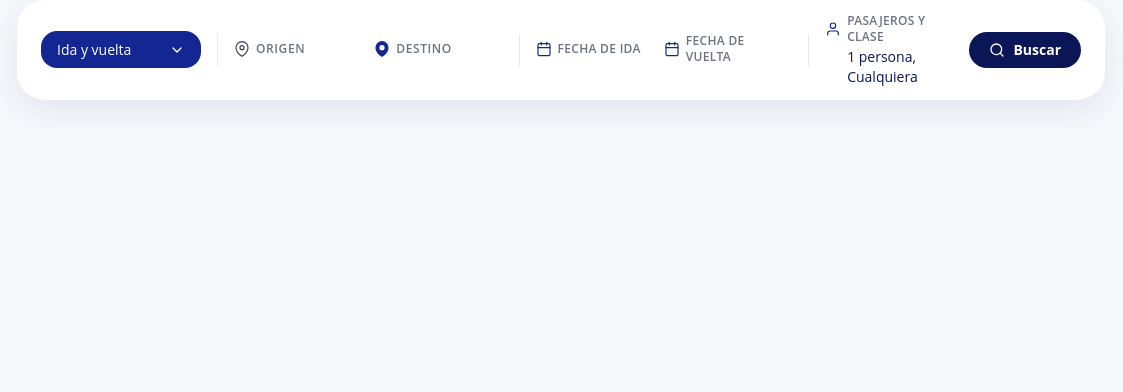
Test case: SearchBar — validación de búsqueda › al elegir un origen argentino, el destino solo ofrece paradas de Paraguay
# abrir el input de Origen y elegir la provincia argentina "Buenos Aires"
Click the text "Origen": [281, 49] box [256, 40, 305, 58]
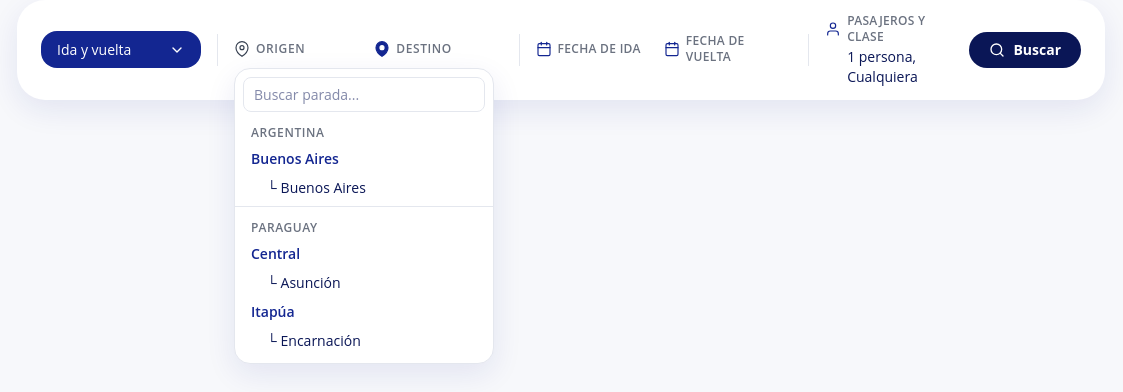
# el dropdown de origen muestra la provincia AR una vez que getStops resuelve
Click the text "Buenos Aires": [295, 158] box [251, 149, 339, 168]
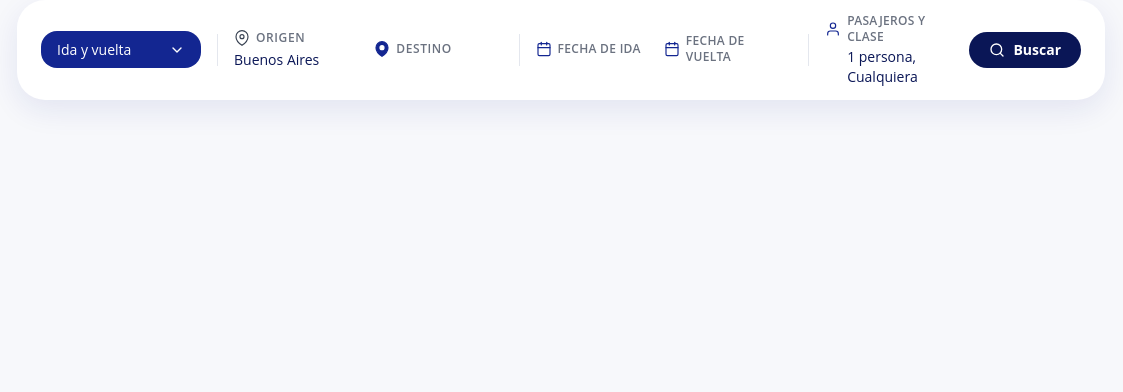
# abrir el input de Destino
Click the text "Destino": [424, 49] box [396, 40, 452, 58]
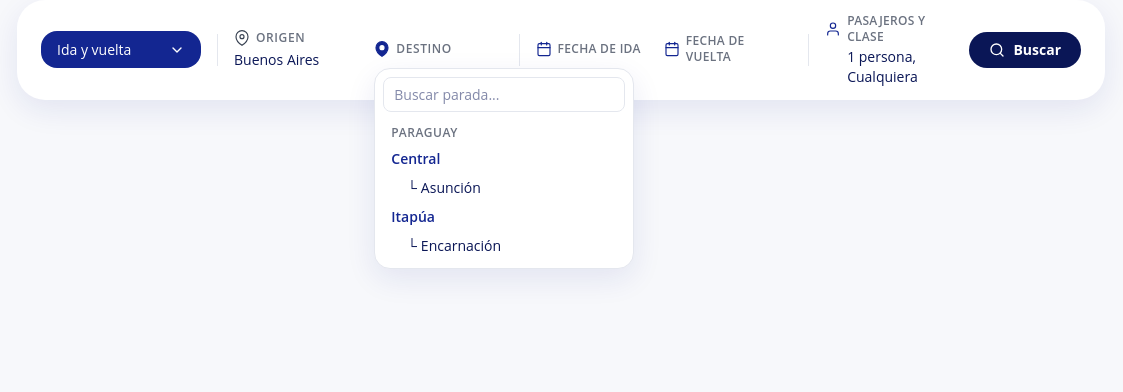
Check: the text "Argentina" is not shown
Check: the text "Paraguay" is shown, box [391, 124, 458, 141]
Check: the text "└ Asunción" is shown, box [407, 178, 481, 197]
